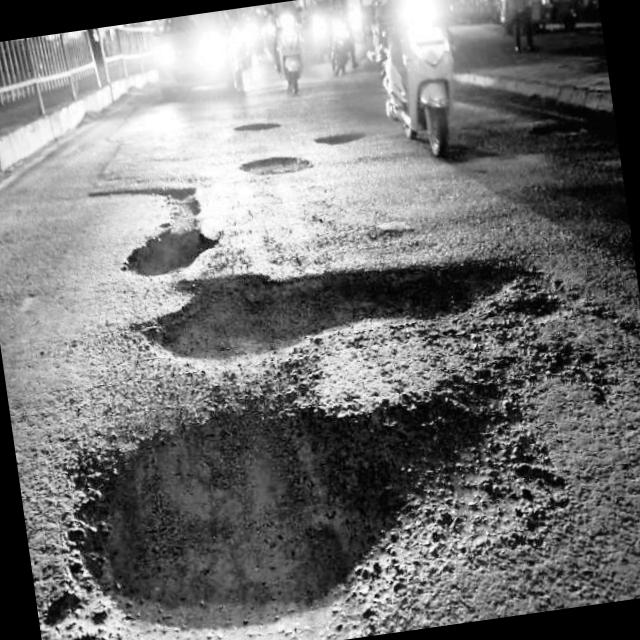Pothole: (64, 371, 438, 640), (138, 229, 555, 381), (116, 202, 218, 276), (232, 140, 312, 193), (312, 111, 374, 158), (232, 101, 286, 143)
